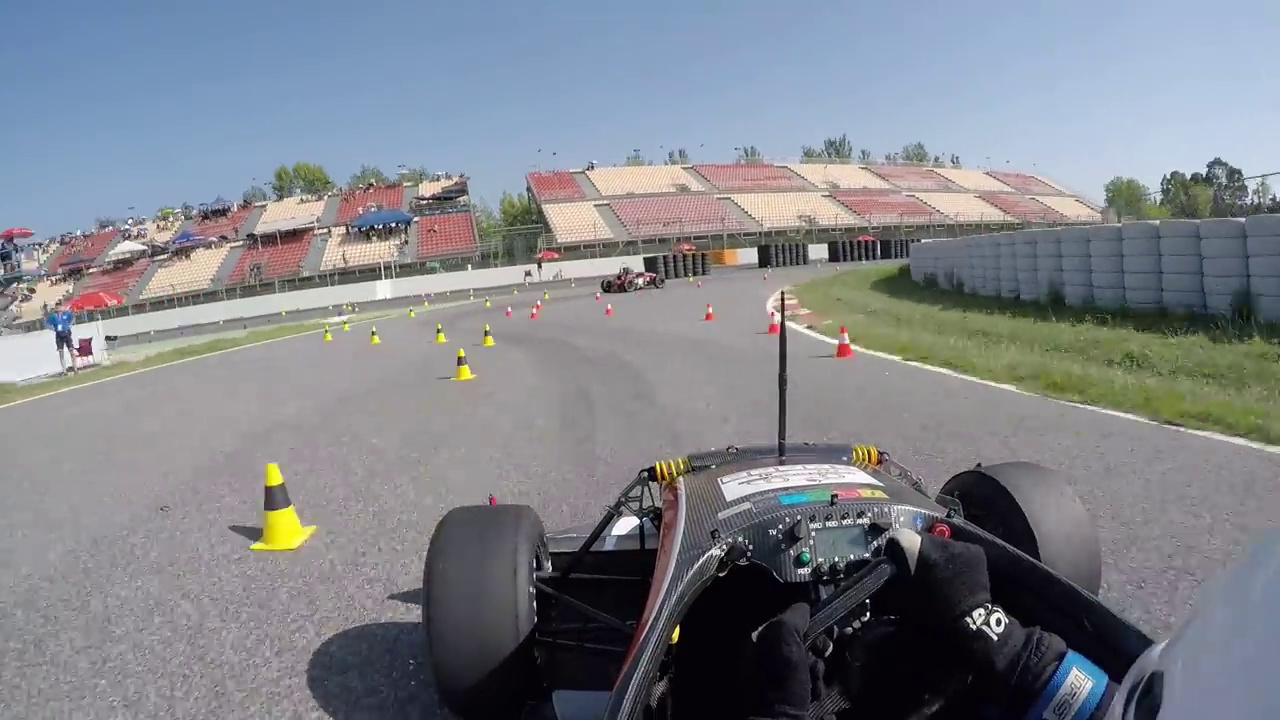Cone: (248, 459, 309, 550), (832, 322, 857, 361), (452, 347, 476, 382)
